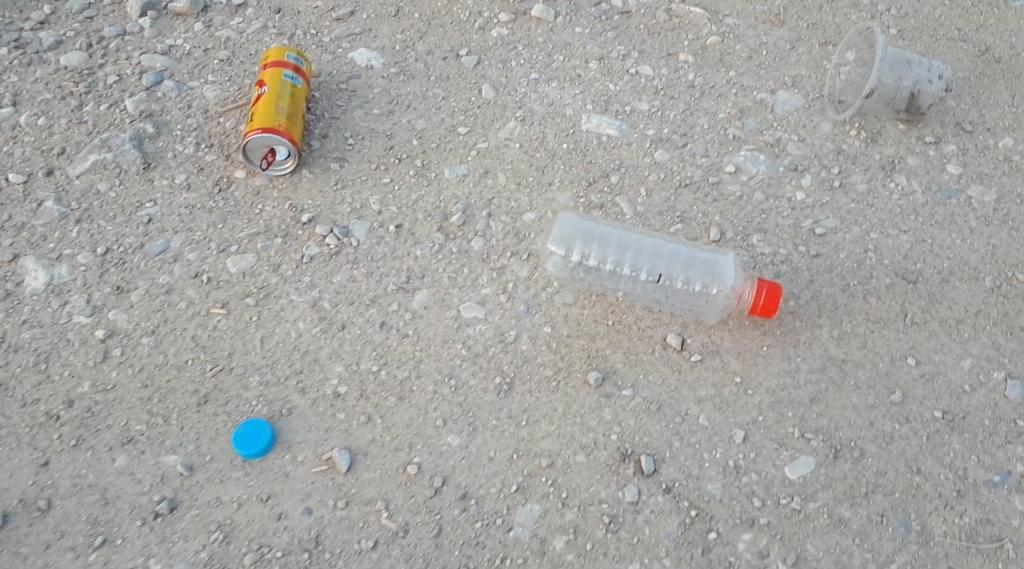garbage: (510, 196, 815, 343), (540, 210, 782, 322), (826, 28, 978, 139), (245, 31, 341, 195), (241, 45, 313, 176)
